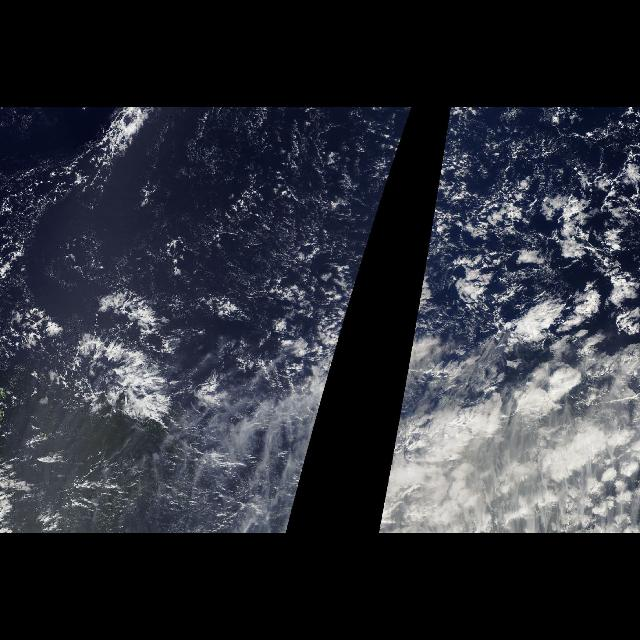Flower: (437, 180, 636, 518)
Gravel: (452, 110, 640, 344)
Sugar: (170, 109, 412, 279)
